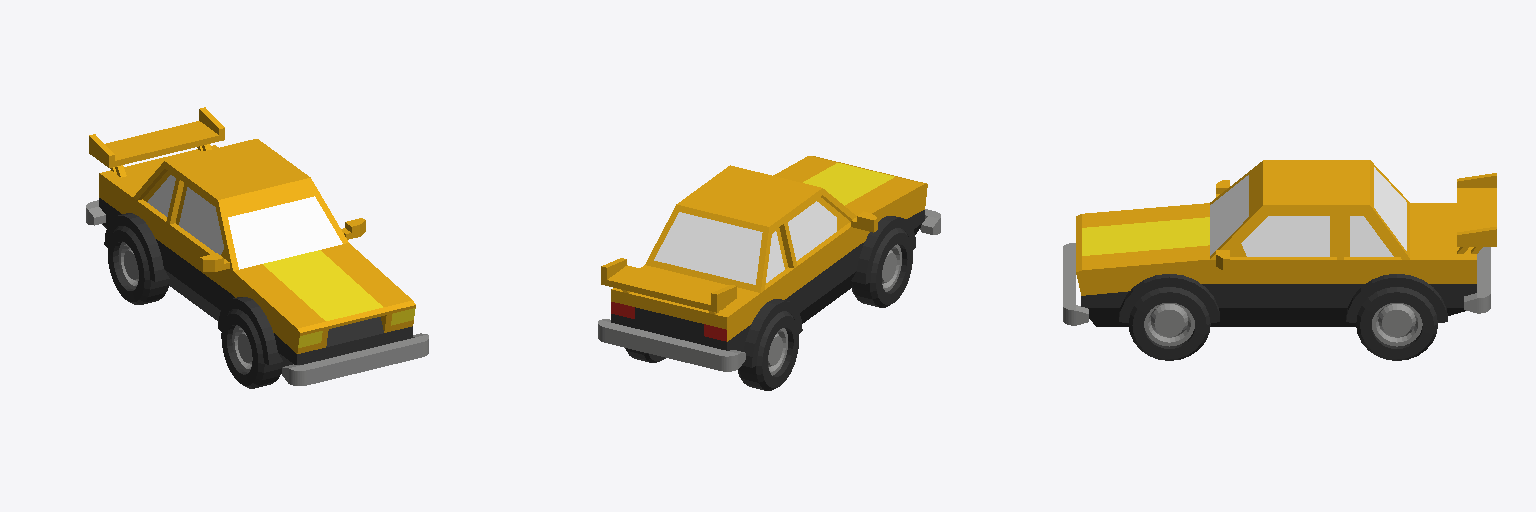
File: car_sports_yellow.obj
3 views of the same model, side by side, from view 1: azimuth 30°, elevation 25°; view 2: azimuth 150°, elevation 25°; view 3: azimuth 270°, elevation 25° (orthographic).
Visible parts, largest first — view 1: mergedBlocks; view 2: mergedBlocks; view 3: mergedBlocks.
Boxes of the visible parts, x1=… form: mergedBlocks: x1=86, y1=107, x2=428, y2=388; mergedBlocks: x1=598, y1=156, x2=940, y2=390; mergedBlocks: x1=1063, y1=160, x2=1496, y2=360.
Bounding box in the file's own units: 1.4 × 1.21 × 3.25.